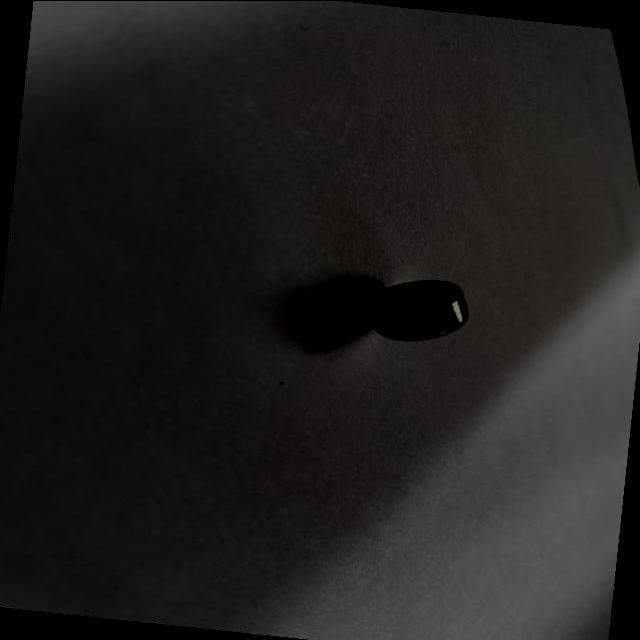COIN: (355, 272, 476, 353)
